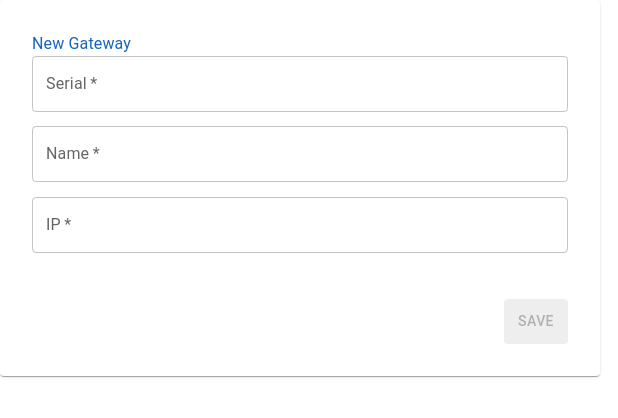
Test: <NewGateway /> Load the NewGateway component and make sure everything is correct › displays ipv4 validation errors
Type "not valid" into the field labelled "IP *" at (300, 225), box 32,197 -> 568,253
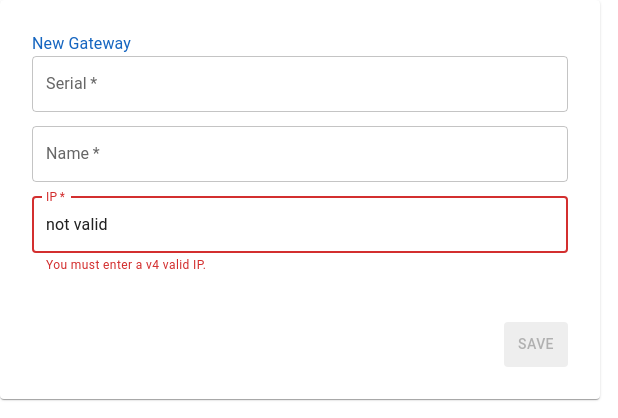
Expected: the text "You must enter a v4 valid IP." is shown, 46,258 -> 206,272
Clear the field labelled "IP *" at (300, 225), box 32,197 -> 568,253
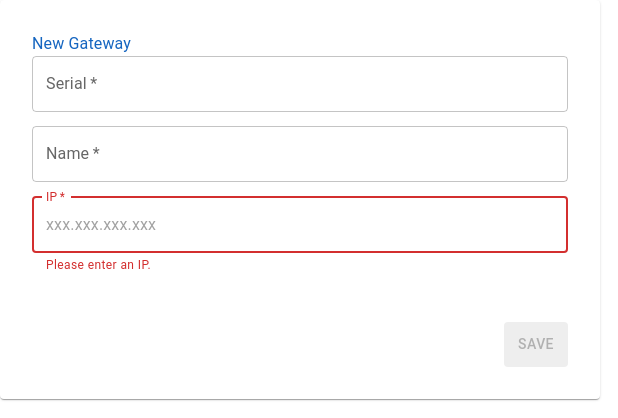
Expected: the text "Please enter an IP." is shown, 46,258 -> 151,272
